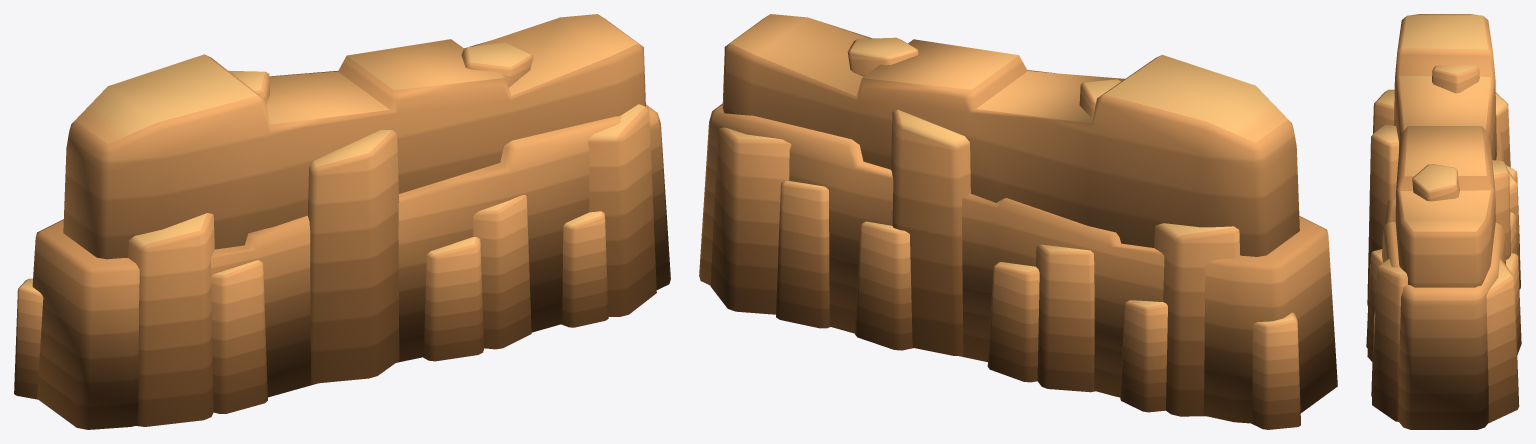
Rendered from cliff_002.fbx.
The picture shows the model from 3 angles, left to right: view 1: azimuth 30°, elevation 25°; view 2: azimuth 150°, elevation 25°; view 3: azimuth 270°, elevation 25°; orthographic projection. The views are drawn at different scales.
Parts seen in each view (by area): view 1: cliff.002; view 2: cliff.002; view 3: cliff.002.
Part boxes in pixels (bbox=[...]): cliff.002: bbox=[14, 14, 670, 429]; cliff.002: bbox=[699, 14, 1337, 429]; cliff.002: bbox=[1366, 14, 1521, 429].
Bounding box in the file's own units: 167 × 76.8 × 47.61.
